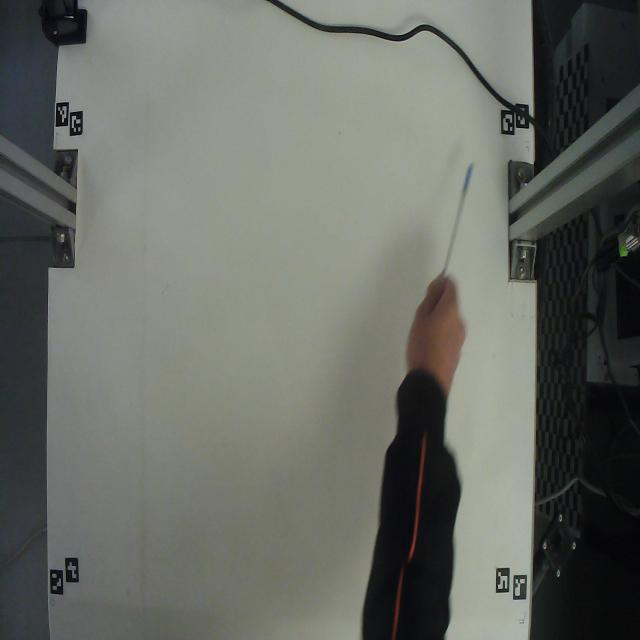NoPres: (435, 133, 490, 283)
